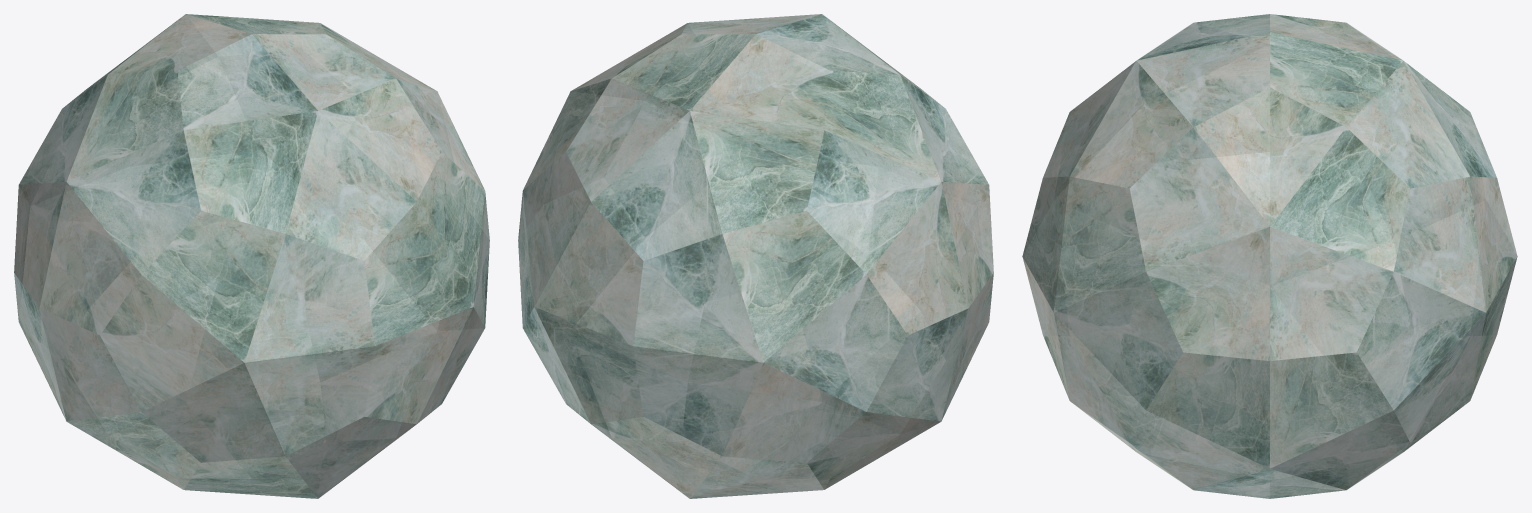
Rendered from DeltoidalHexecontahedronA.obj.
3 views of the same model, side by side, from view 1: azimuth 30°, elevation 25°; view 2: azimuth 150°, elevation 25°; view 3: azimuth 270°, elevation 25° (orthographic).
Bounding box in the file's own units: 4.47 × 4.47 × 4.47.
Materials: 1 (1 with a texture image).
